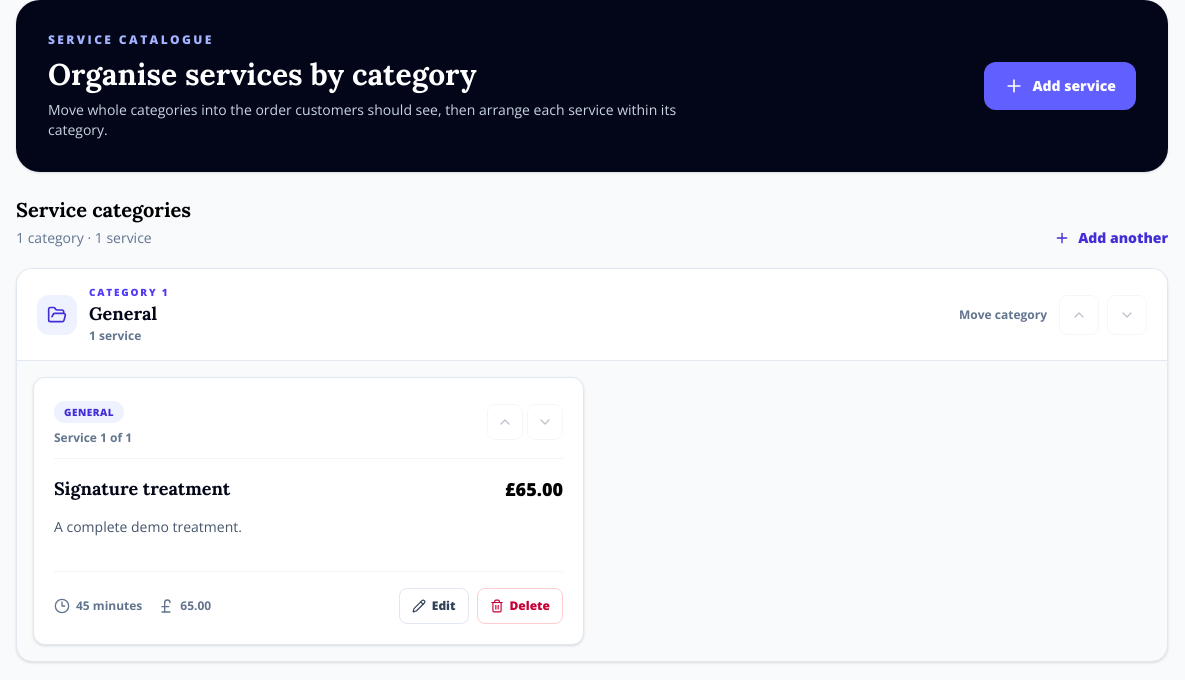
Test: ServicesPage › confirms and removes a service from future choices
What coordinates should you click on to do the following:
click the button with aria-label "Delete Signature treatment"
I would click on:
 (520, 606)
Its box is x1=476 y1=588 x2=563 y2=624.
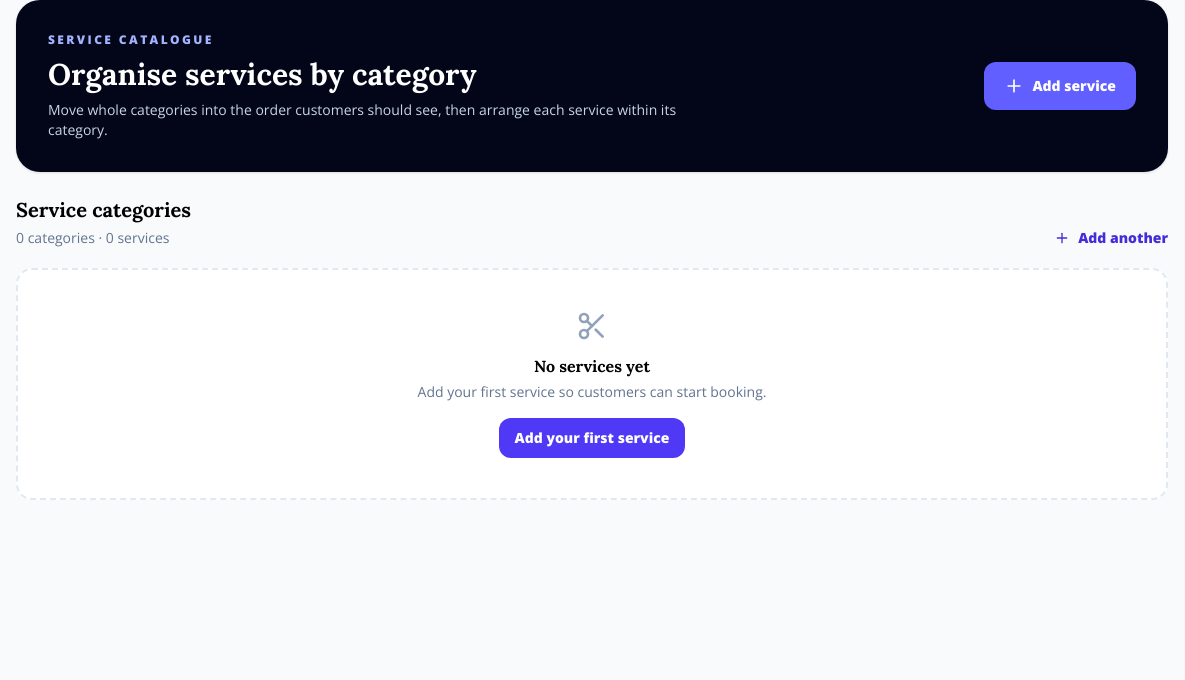
expect the heading "No services yet" is shown: met, box x1=534 y1=356 x2=650 y2=376
